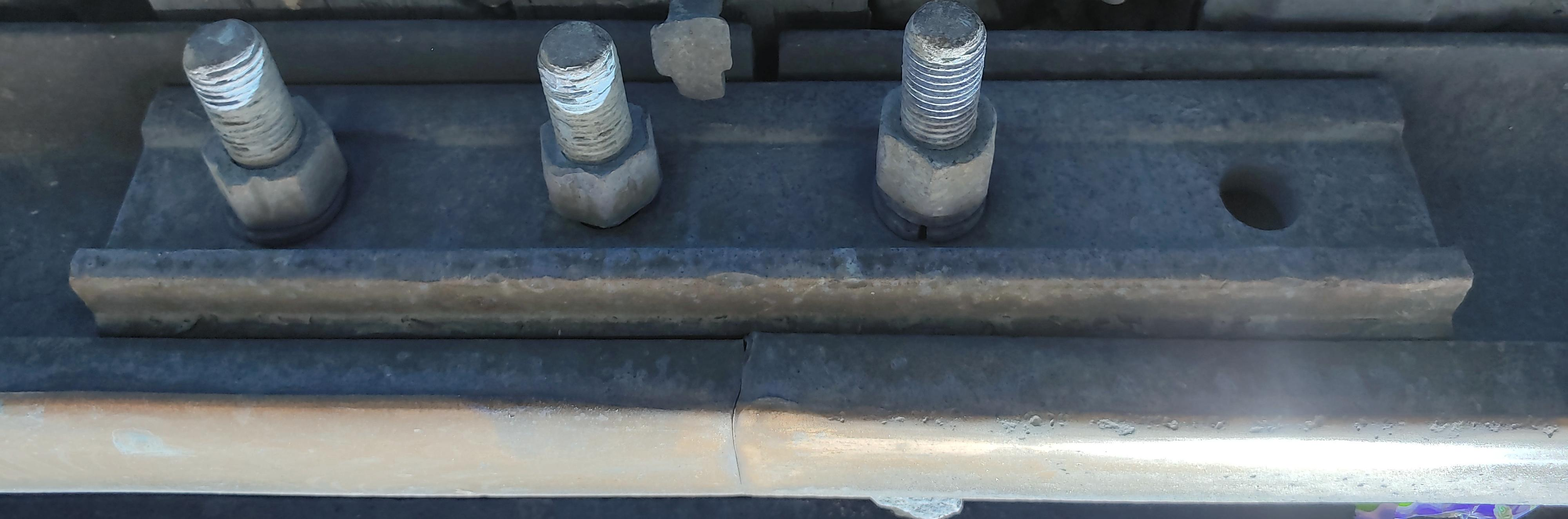duan lie: (708, 338, 783, 518)
